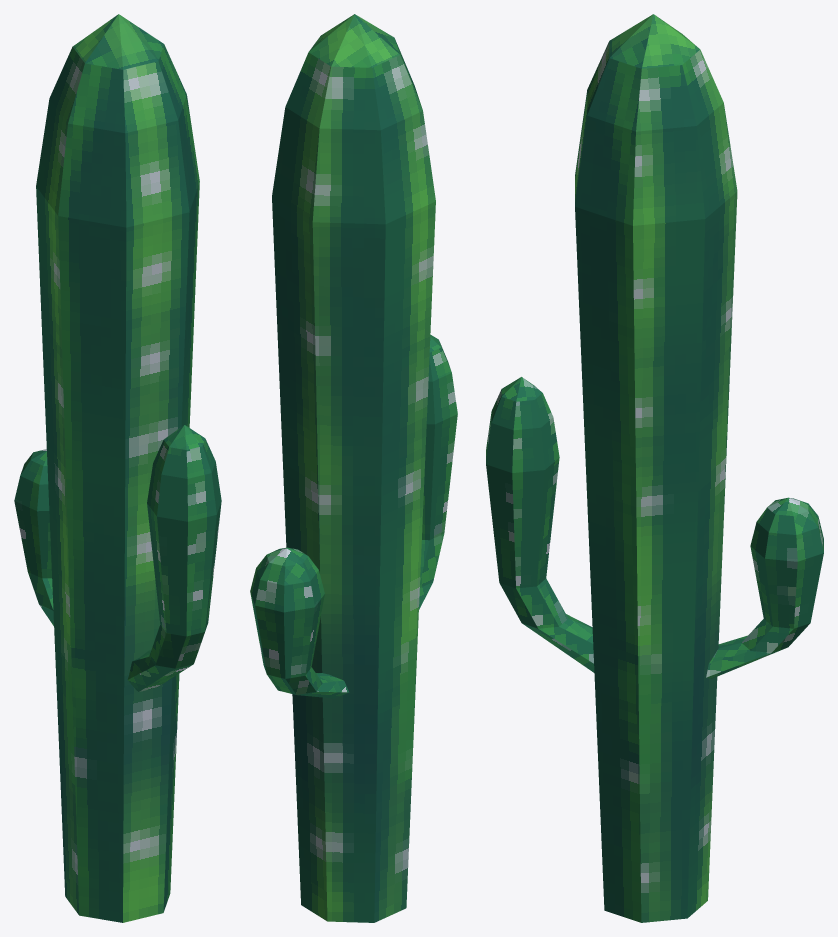
File: Cactus2.gltf
The picture shows the model from 3 angles, left to right: view 1: azimuth 30°, elevation 25°; view 2: azimuth 150°, elevation 25°; view 3: azimuth 270°, elevation 25°; orthographic projection.
Visible parts, largest first — view 1: cylinder (×3); view 2: cylinder (×3); view 3: cylinder (×3).
Part boxes in pixels (x1,y1,x2,y2): cylinder (×3): [14, 14, 221, 922]; cylinder (×3): [250, 14, 457, 922]; cylinder (×3): [486, 14, 823, 922].
Size of the model in its own units: 0.2301 by 1.38 by 0.475.
1 material, 1 textured.
